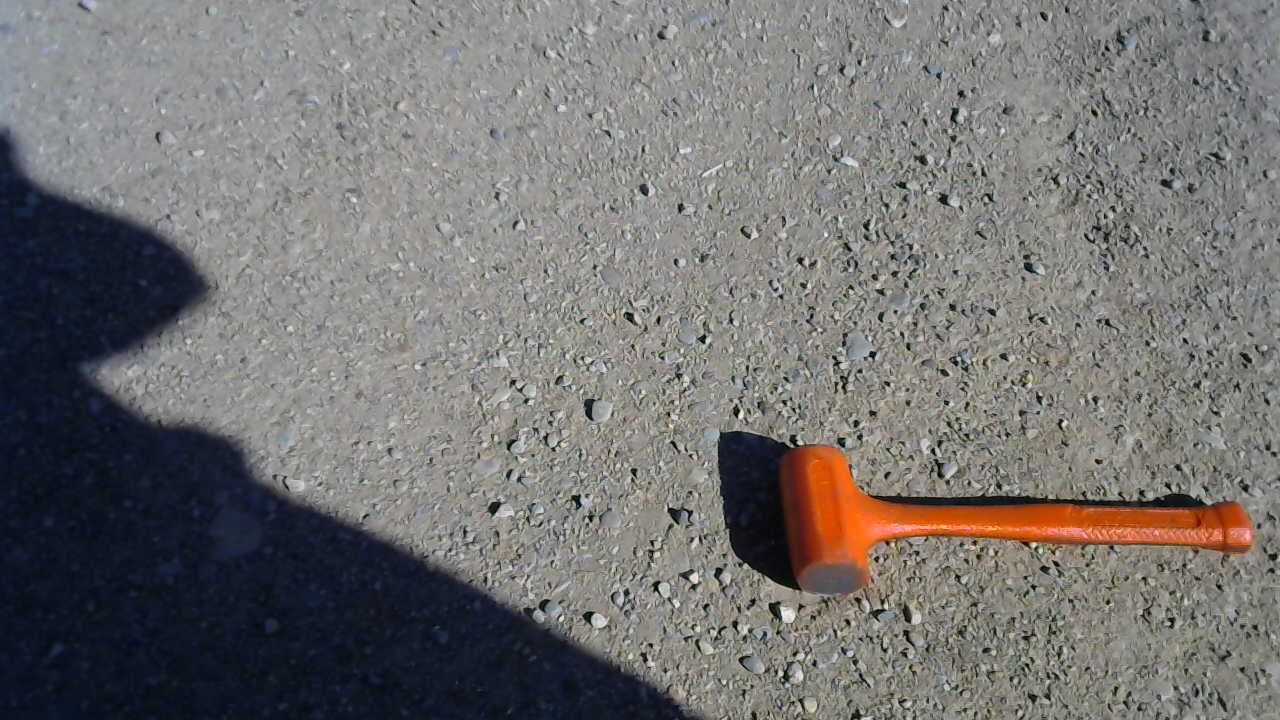hammer: (759, 438, 1253, 599)
